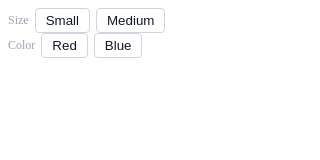
Test case: VariantSelector rendering › renders one control per option and re-resolves the variant frame on selection (2-option/4-variant)
The image size is (320, 160).
Click the button "Small" at (62,20), box [35, 8, 90, 33]
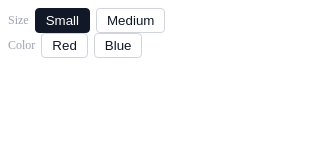
Click the button "Red" at (65,46), box [41, 33, 88, 58]
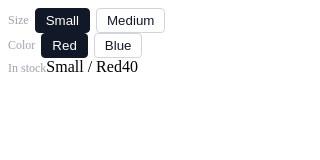
Expected: the text "Small / Red" is shown, [46, 58, 122, 75]
Expected: the text "40" is shown, [122, 58, 138, 75]
Click the button "Medium" at (131,20), box [96, 8, 165, 33]
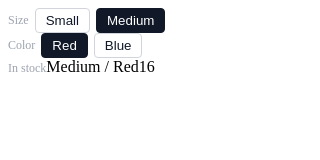
Expected: the text "Medium / Red" is shown, [46, 58, 139, 75]
Expected: the text "16" is shown, [139, 58, 155, 75]
